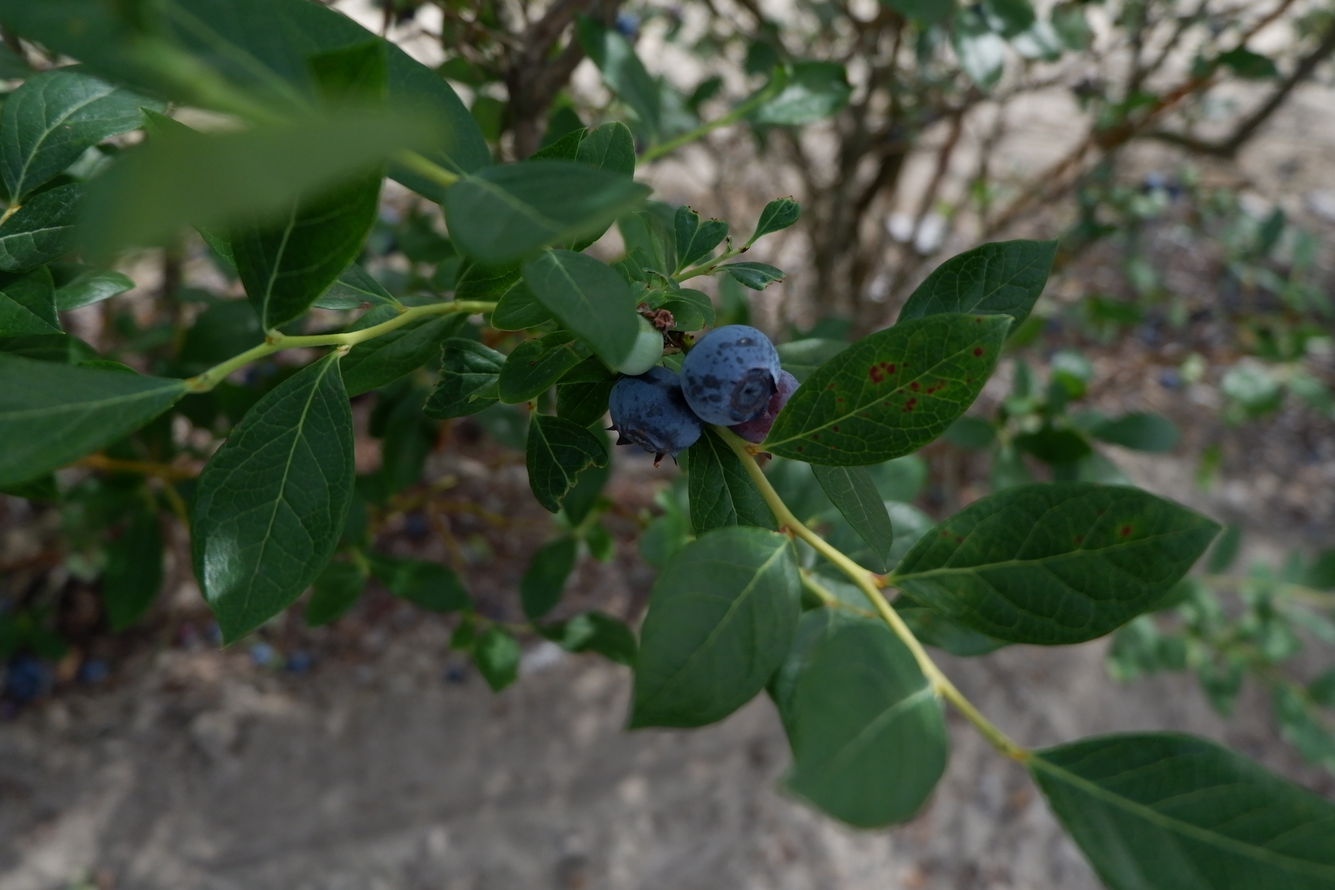Immature: (616, 315, 665, 374)
Mature: (685, 328, 779, 422), (612, 366, 700, 459), (732, 369, 799, 442)
